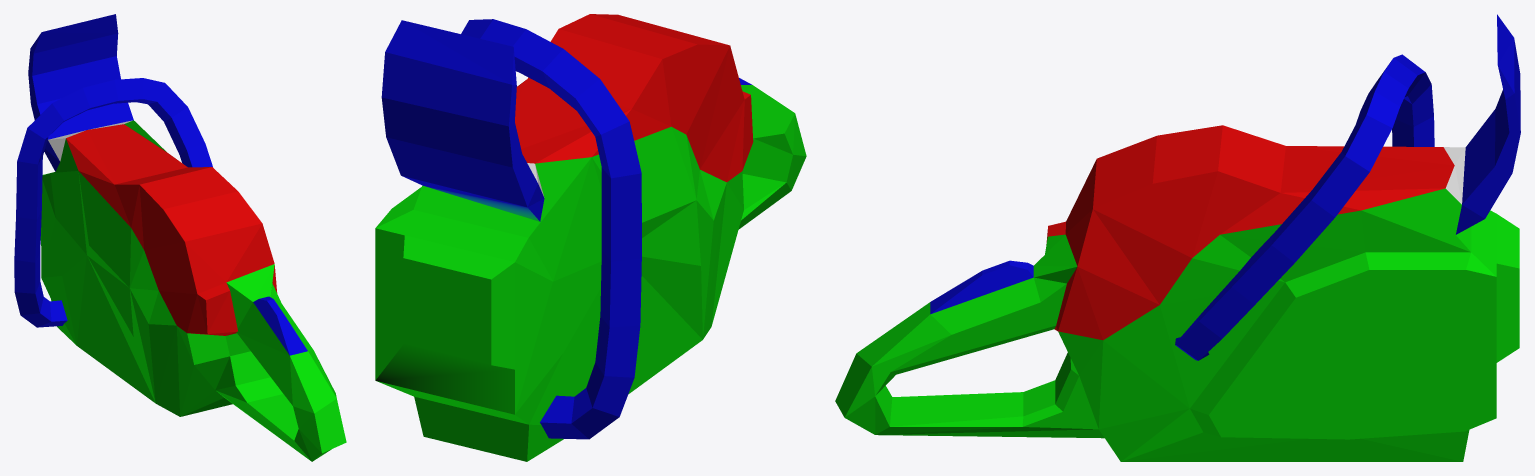
Rendered from chainsaw20in_Collider.fbx.
The picture shows the model from 3 angles, left to right: view 1: azimuth 30°, elevation 25°; view 2: azimuth 150°, elevation 25°; view 3: azimuth 270°, elevation 25°; orthographic projection. The views are drawn at different scales.
Parts seen in each view (by area): view 1: Chainsaw_Collider; view 2: Chainsaw_Collider; view 3: Chainsaw_Collider.
Boxes of the visible parts, x1,y1,x2,y2 form: Chainsaw_Collider: [14, 14, 346, 461]; Chainsaw_Collider: [375, 14, 806, 461]; Chainsaw_Collider: [835, 14, 1520, 461].
Size of the model in its own units: 17.39 by 30.85 by 48.06.
